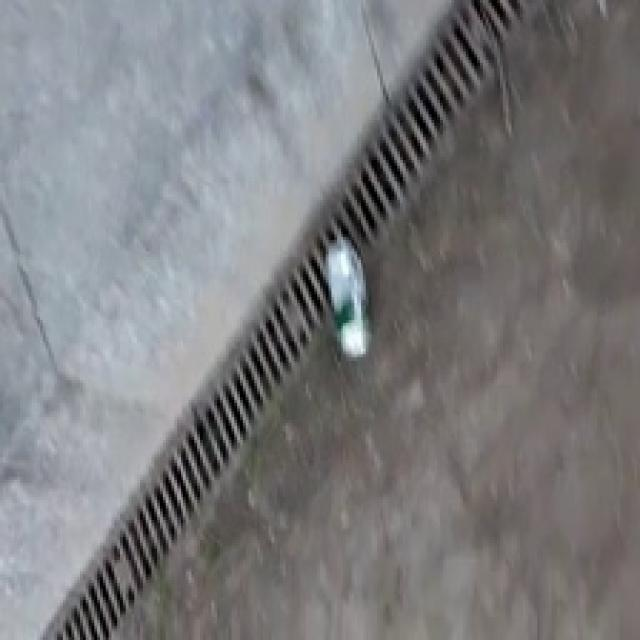recyclable: (324, 241, 376, 356)
